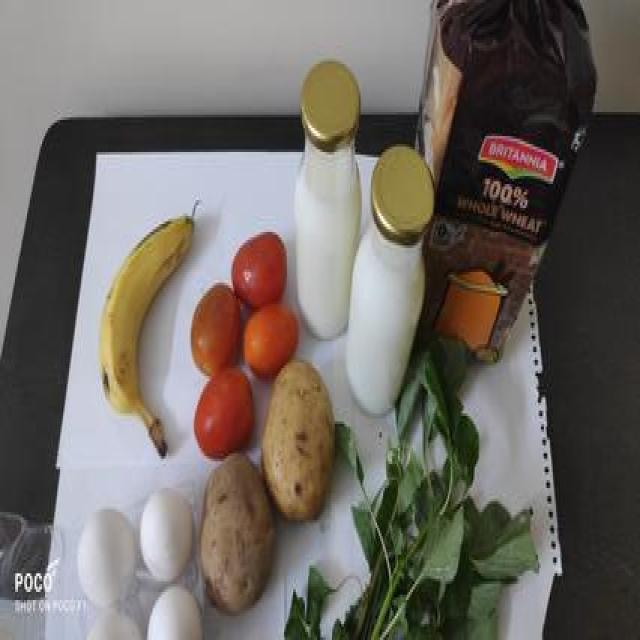Fresh_Spinach: (289, 348, 539, 640)
Fresh_tomato: (197, 370, 258, 450), (234, 224, 283, 315), (233, 313, 295, 384), (188, 299, 243, 370)
